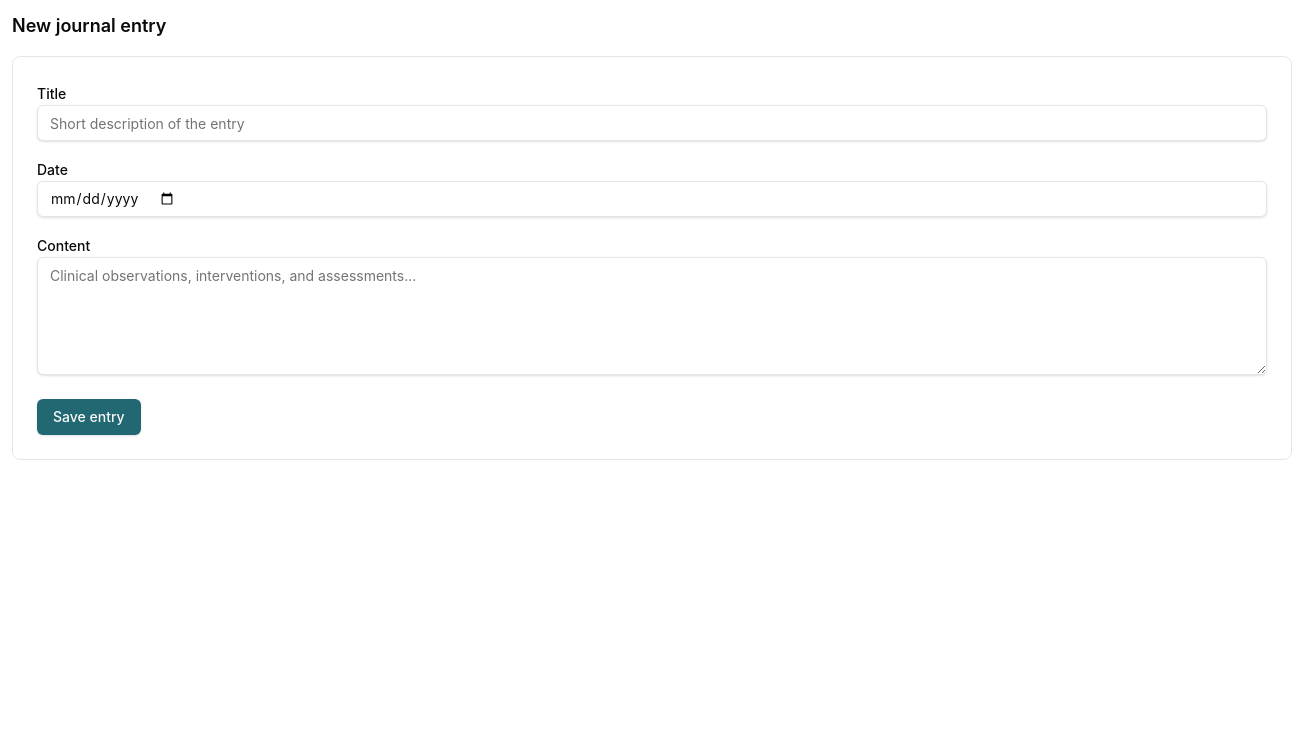
Test: JournalForm › clears values and validation errors after a valid submit
Step 1. Click the button "Save entry" → (89, 417), box left=37, top=399, right=141, bottom=435
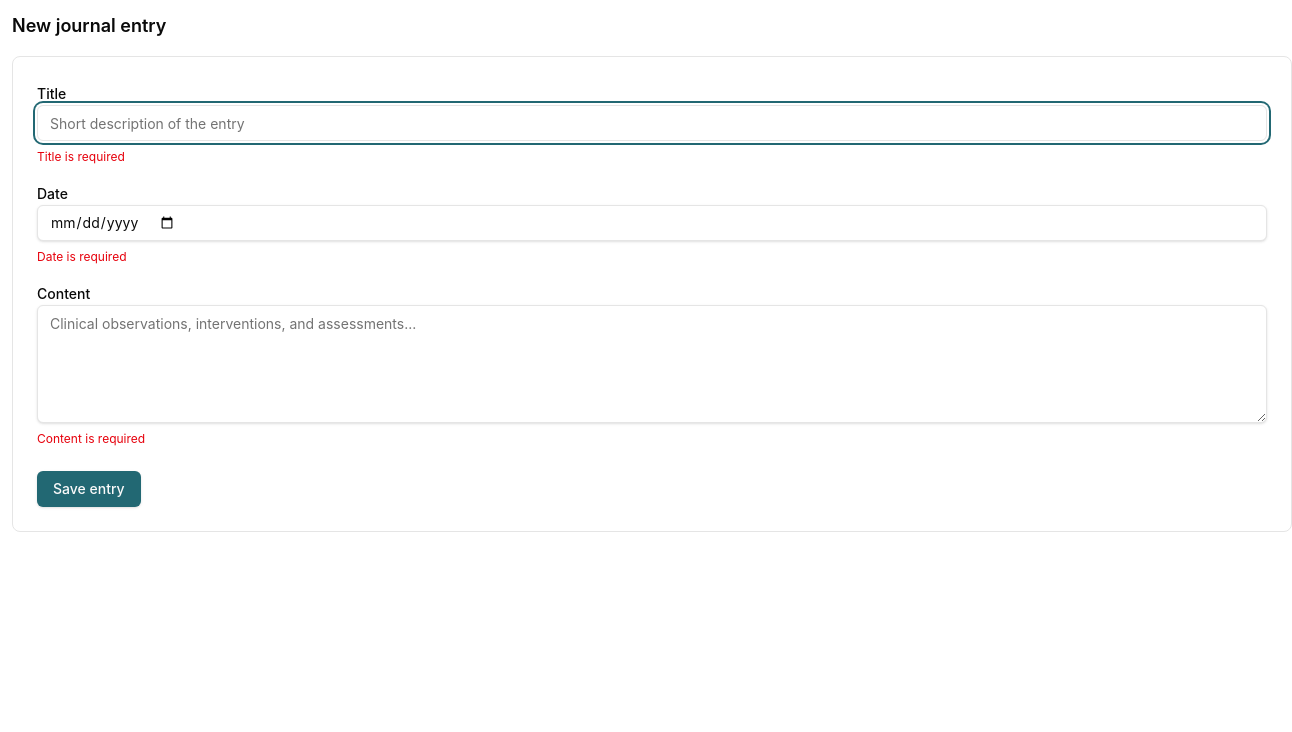
Expected: the text "Title is required" is shown, left=37, top=149, right=125, bottom=164
Step 2. Type "ECG follow-up" into the field labelled "Title" → (652, 123), box left=37, top=105, right=1267, bottom=141
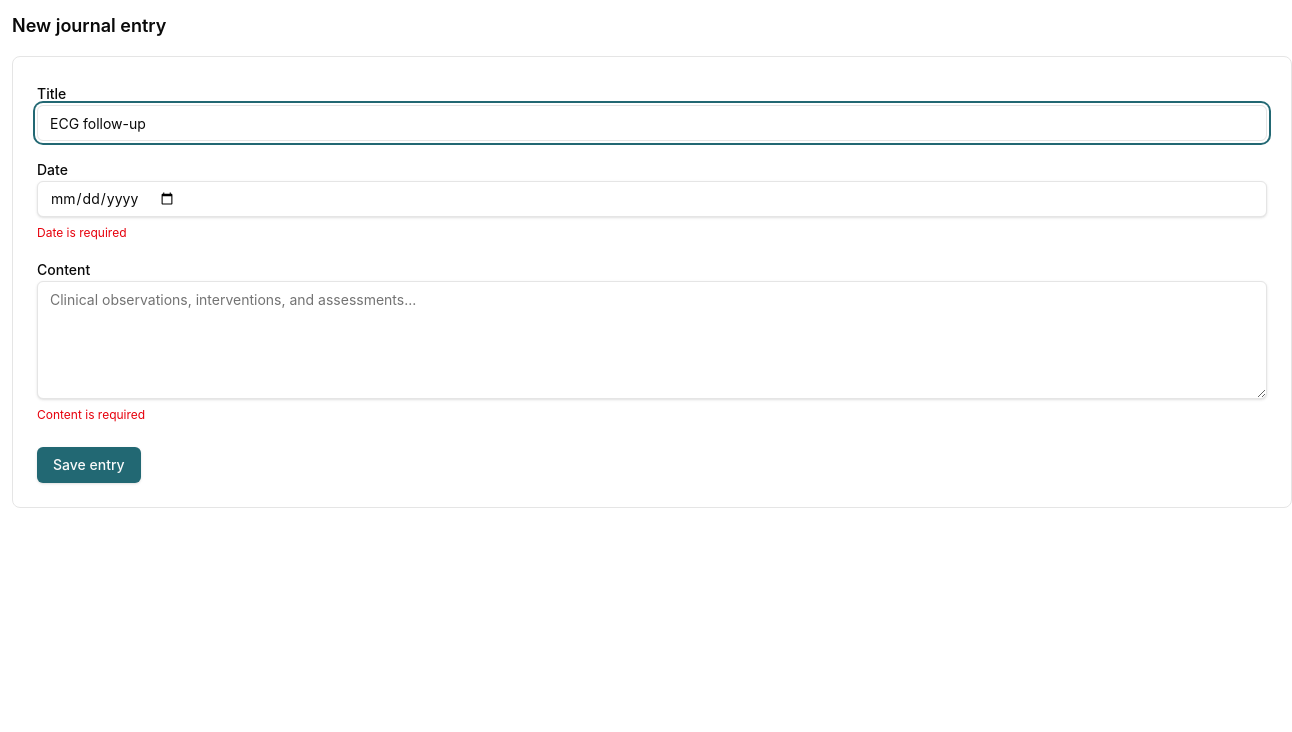
Step 3. Type "2026-05-11" into the date field labelled "Date" → (652, 199), box left=37, top=181, right=1267, bottom=217
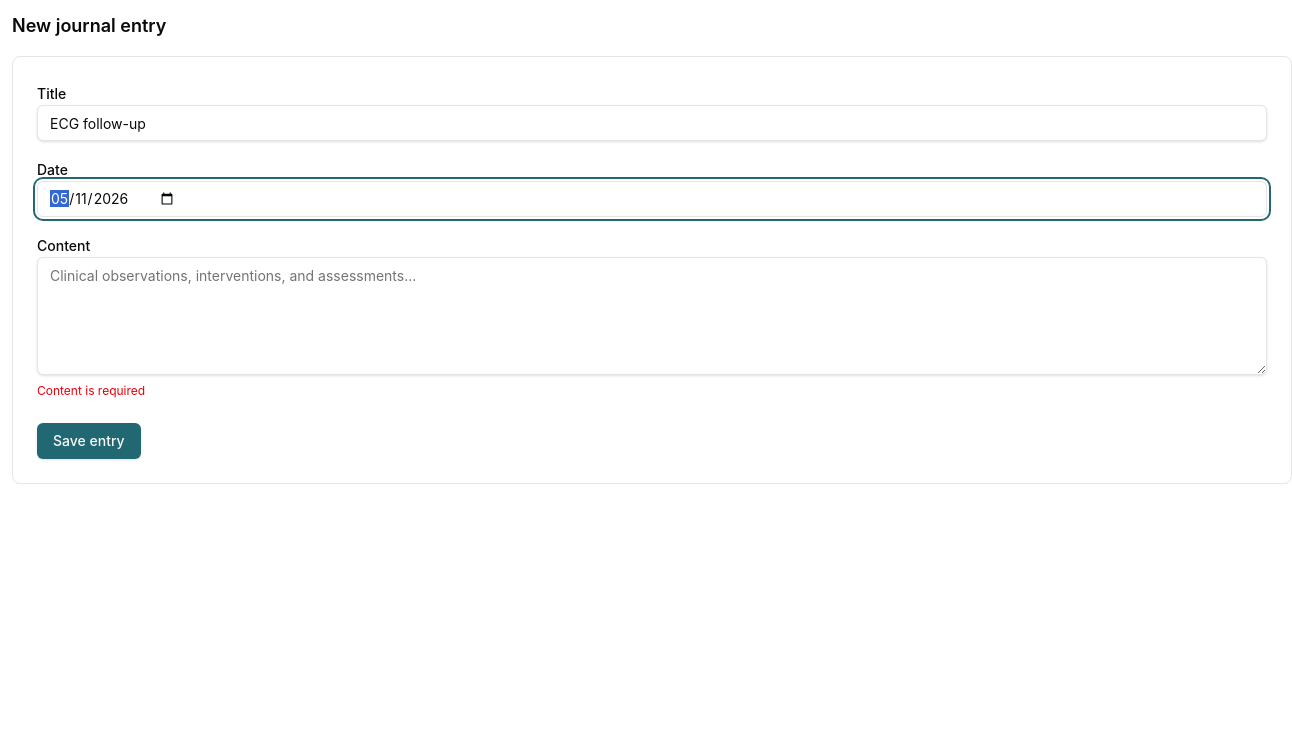
Step 4. Type "Patient reports improved symptoms." into the text box labelled "Content" → (652, 316), box left=37, top=257, right=1267, bottom=375
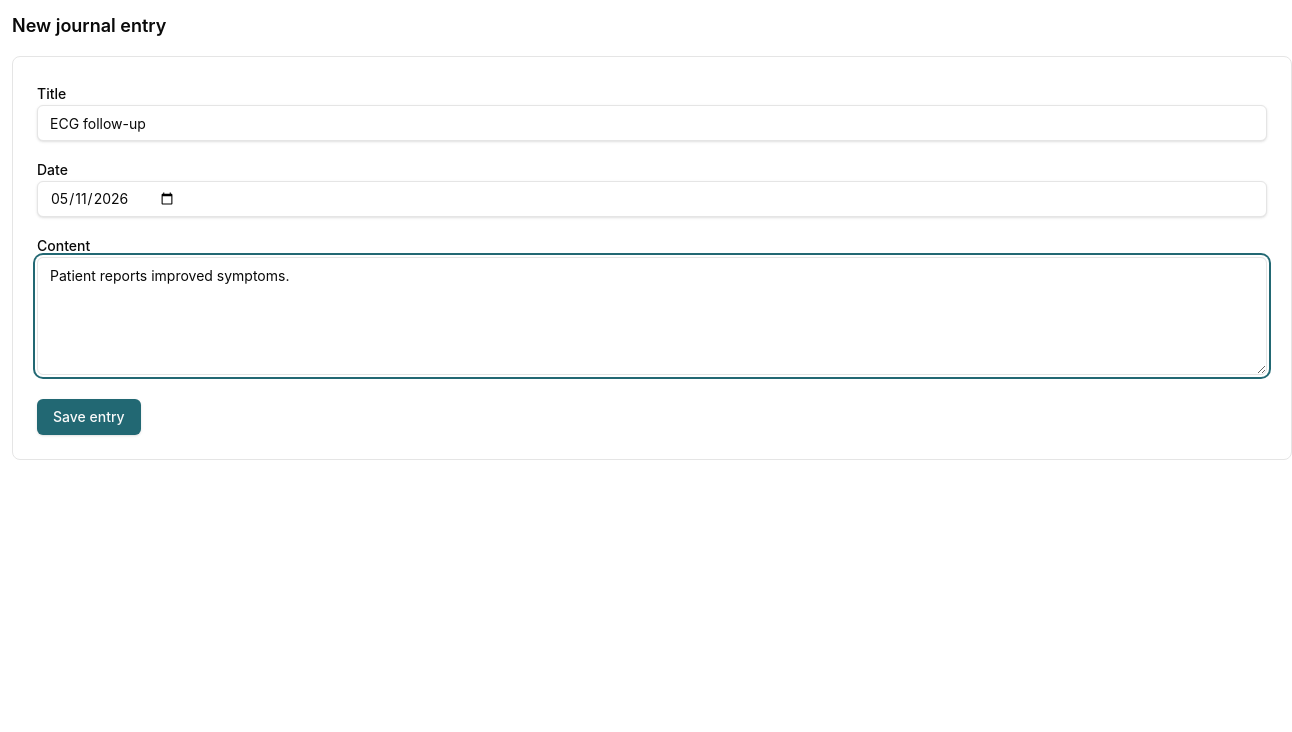
Step 5. Click the button "Save entry" → (89, 417), box left=37, top=399, right=141, bottom=435
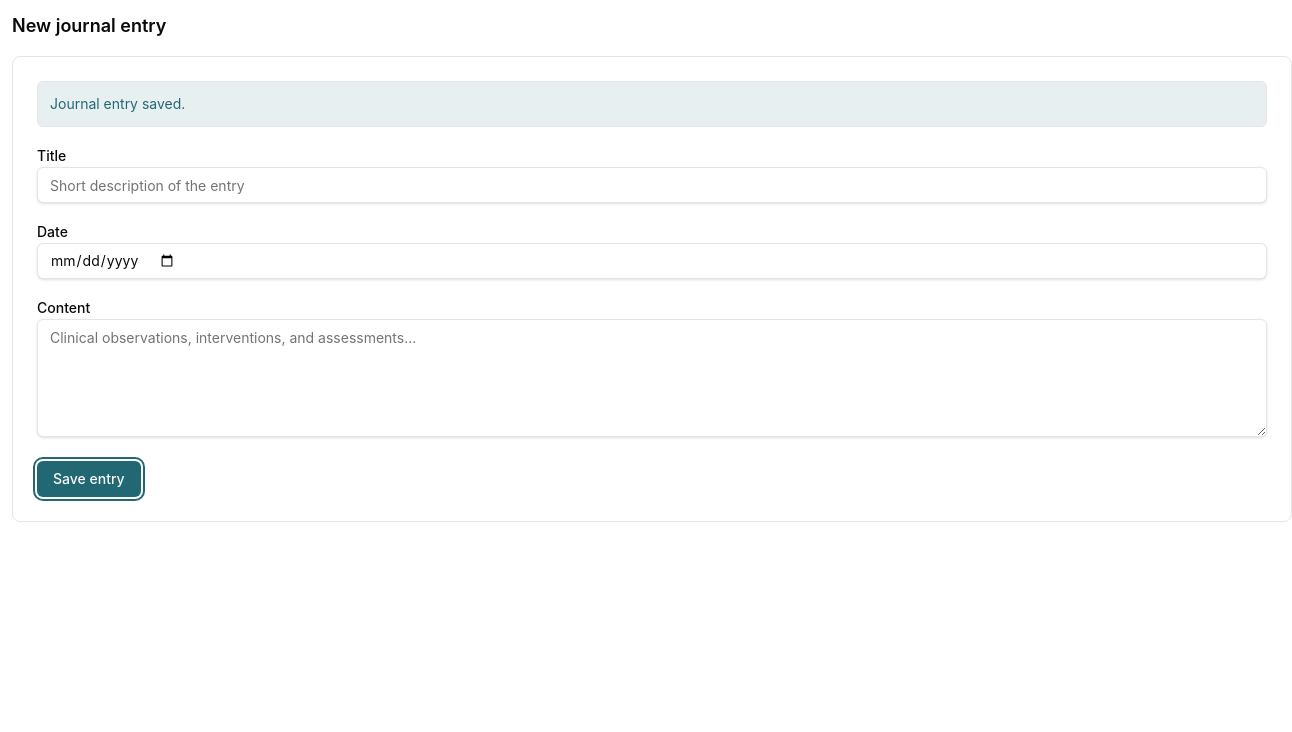
Expected: the text "Title is required" is not shown
Expected: the date field labelled "Date" is empty, left=37, top=243, right=1267, bottom=279
Expected: the message shows "Journal entry saved", left=50, top=95, right=185, bottom=112
